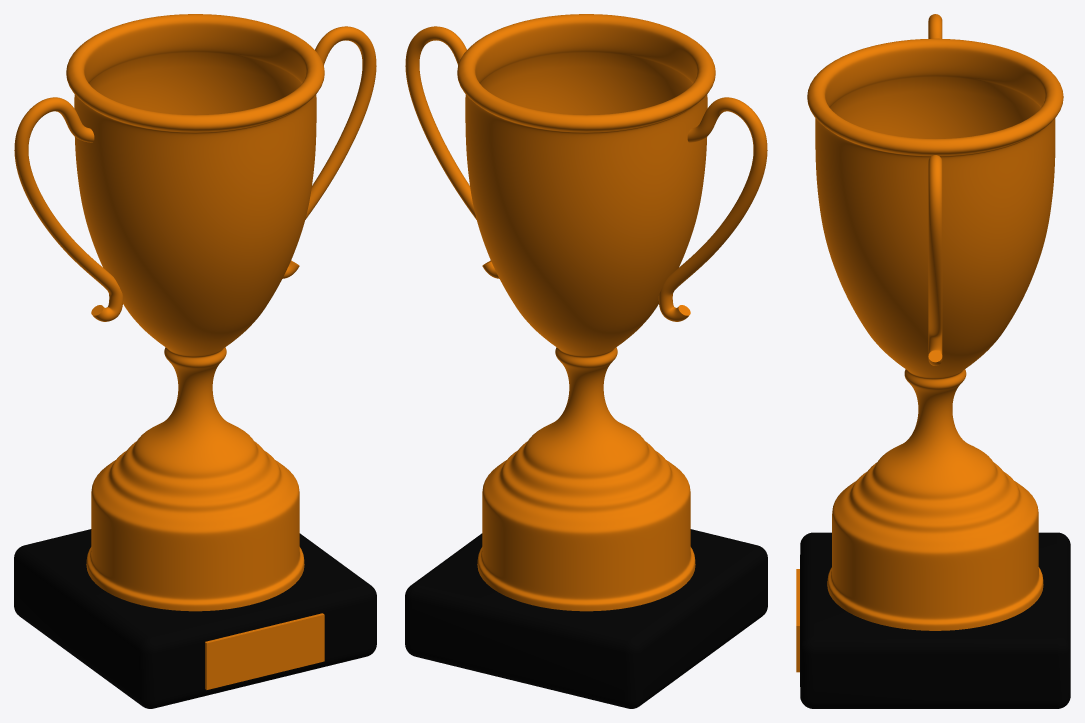
File: cup.glb
The picture shows the model from 3 angles, left to right: view 1: azimuth 30°, elevation 25°; view 2: azimuth 150°, elevation 25°; view 3: azimuth 270°, elevation 25°; orthographic projection.
Visible parts, largest first — view 1: Cube.001; view 2: Cube.001; view 3: Cube.001.
Boxes of the visible parts, x1,y1,x2,y2 form: Cube.001: [14, 14, 376, 708]; Cube.001: [405, 14, 767, 708]; Cube.001: [796, 14, 1070, 708].
Size of the model in its own units: 0.1972 by 0.3001 by 0.1313.
